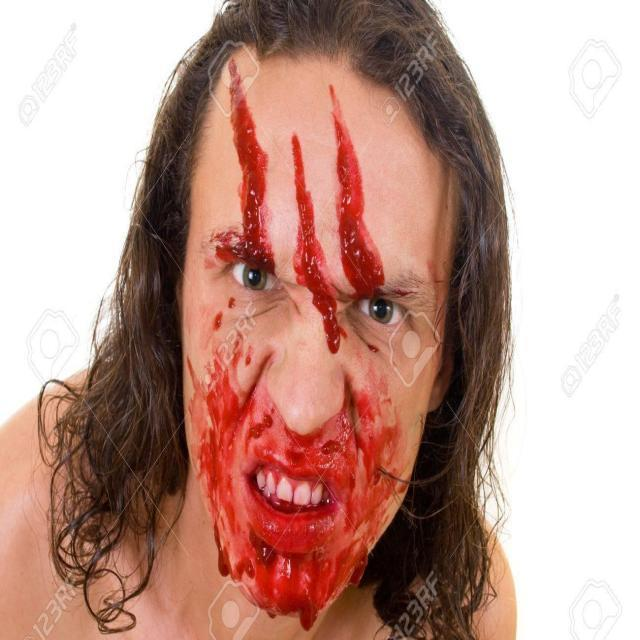flood: (220, 530, 343, 636)
